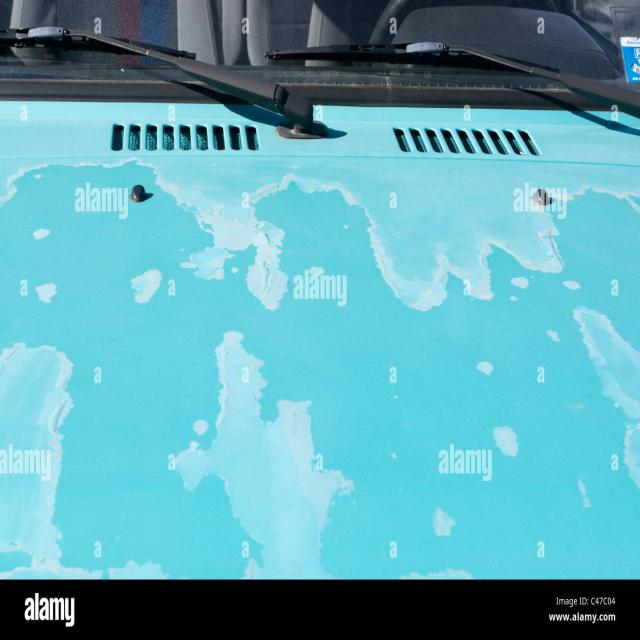scratch: (0, 101, 640, 584)
